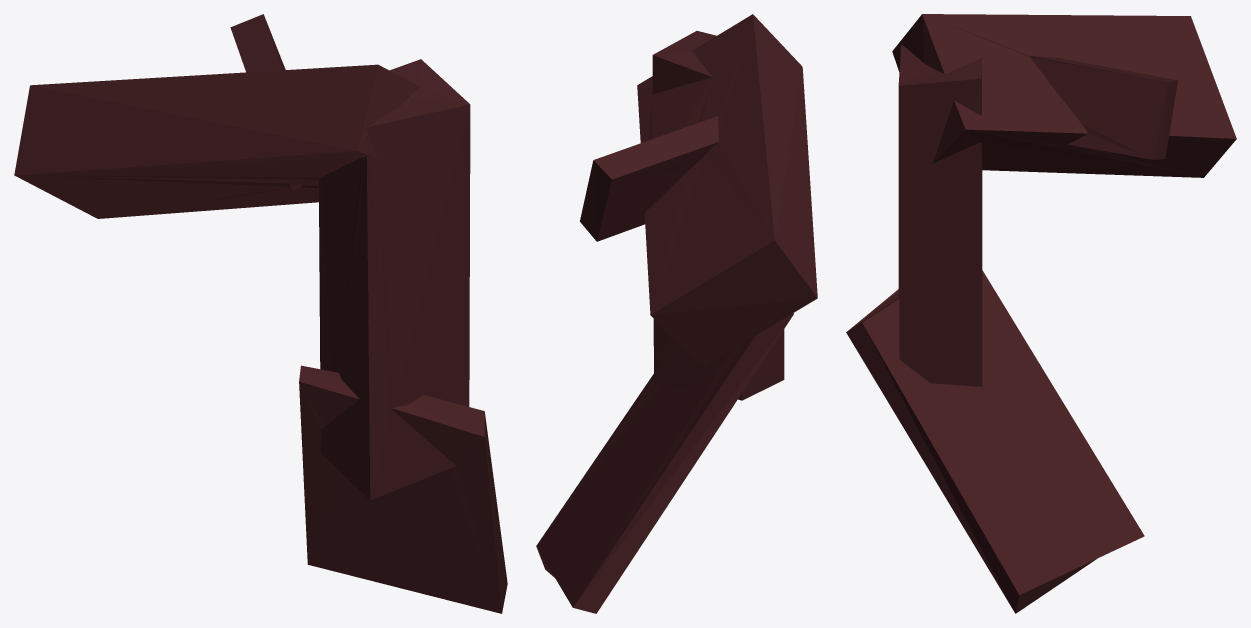
3 views of the same model, side by side, from view 1: azimuth 30°, elevation 25°; view 2: azimuth 150°, elevation 25°; view 3: azimuth 270°, elevation 25° (orthographic). The views are drawn at different scales.
Visible parts, largest first — view 1: 505_Cube.2041; view 2: 505_Cube.2041; view 3: 505_Cube.2041.
Boxes of the visible parts, x1,y1,x2,y2 form: 505_Cube.2041: [14, 14, 507, 613]; 505_Cube.2041: [536, 14, 817, 613]; 505_Cube.2041: [846, 14, 1236, 613].
Size of the model in its own units: 14.06 by 20.95 by 14.08.
